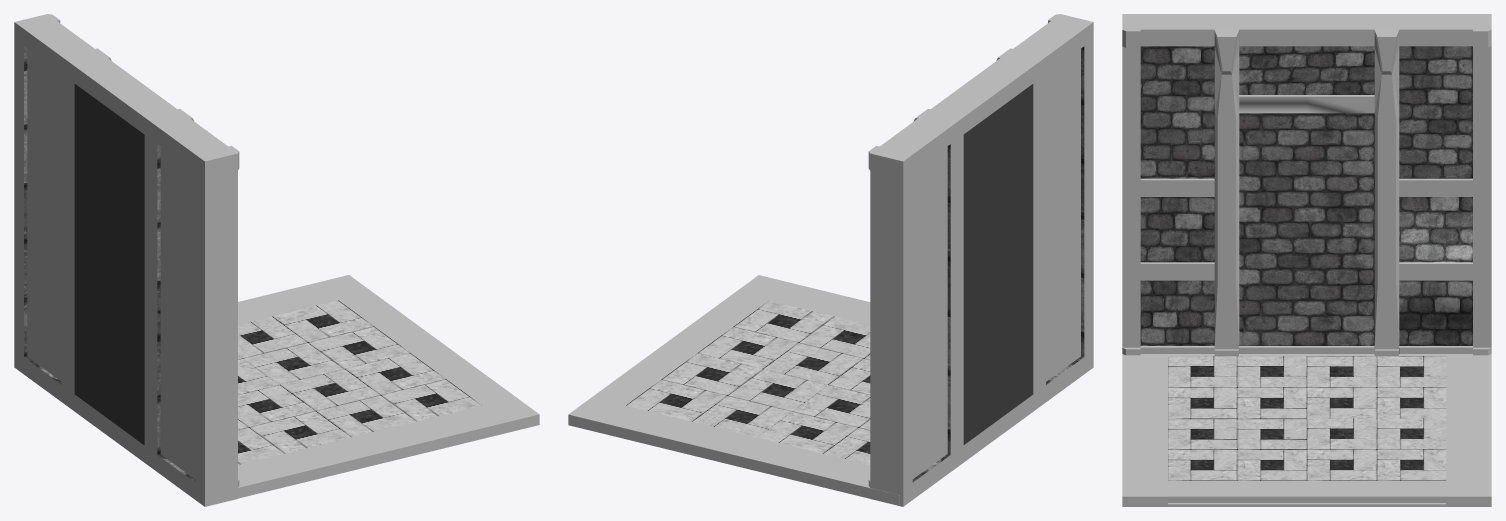
File: Mod3.fbx
3 renders of one model, left to right at view 1: azimuth 30°, elevation 25°; view 2: azimuth 150°, elevation 25°; view 3: azimuth 270°, elevation 25°, orthographic. The views are drawn at different scales.
Visible parts, largest first — view 1: Floor4.003; view 2: Floor4.003; view 3: Floor4.003.
Boxes of the visible parts, left/top/right/bottom form: Floor4.003: left=14, top=14, right=539, bottom=506; Floor4.003: left=568, top=14, right=1093, bottom=506; Floor4.003: left=1122, top=14, right=1491, bottom=506.
Bounding box in the file's own units: 304 × 300 × 300.
